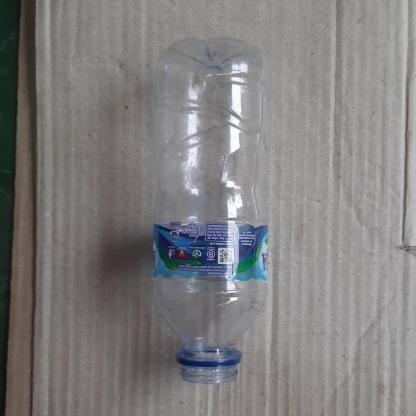Plastic Bottle: (113, 0, 315, 408)
